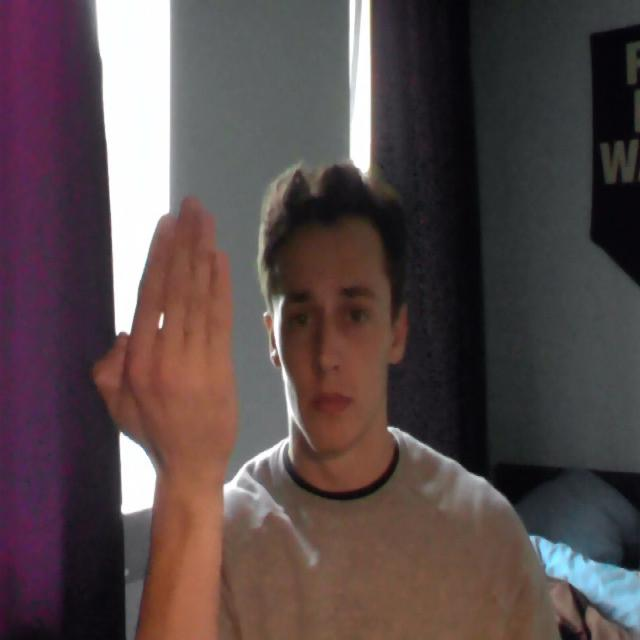forward: (95, 166, 260, 479)
